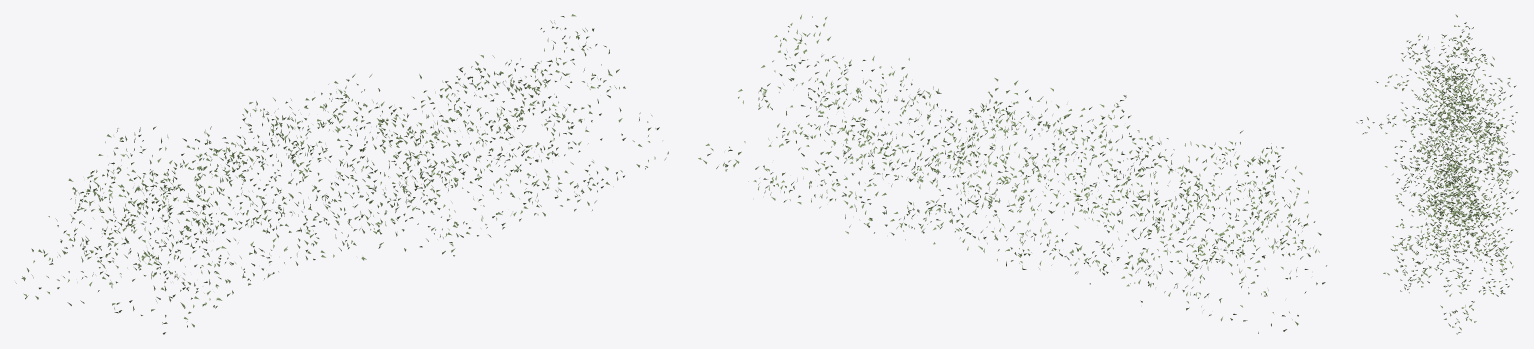
Rendered from xiyuan-vegetation-25-far.glb.
3 renders of one model, left to right at view 1: azimuth 30°, elevation 25°; view 2: azimuth 150°, elevation 25°; view 3: azimuth 270°, elevation 25°, orthographic. The views are drawn at different scales.
Parts seen in each view (by area): view 1: vegetation cedar leaves; view 2: vegetation cedar leaves; view 3: vegetation cedar leaves.
Boxes of the visible parts, <box> form: vegetation cedar leaves: <box>15,14,668,334</box>; vegetation cedar leaves: <box>698,15,1326,333</box>; vegetation cedar leaves: <box>1356,14,1518,334</box>.
Size of the model in its own units: 38.49 by 10.86 by 11.63.
